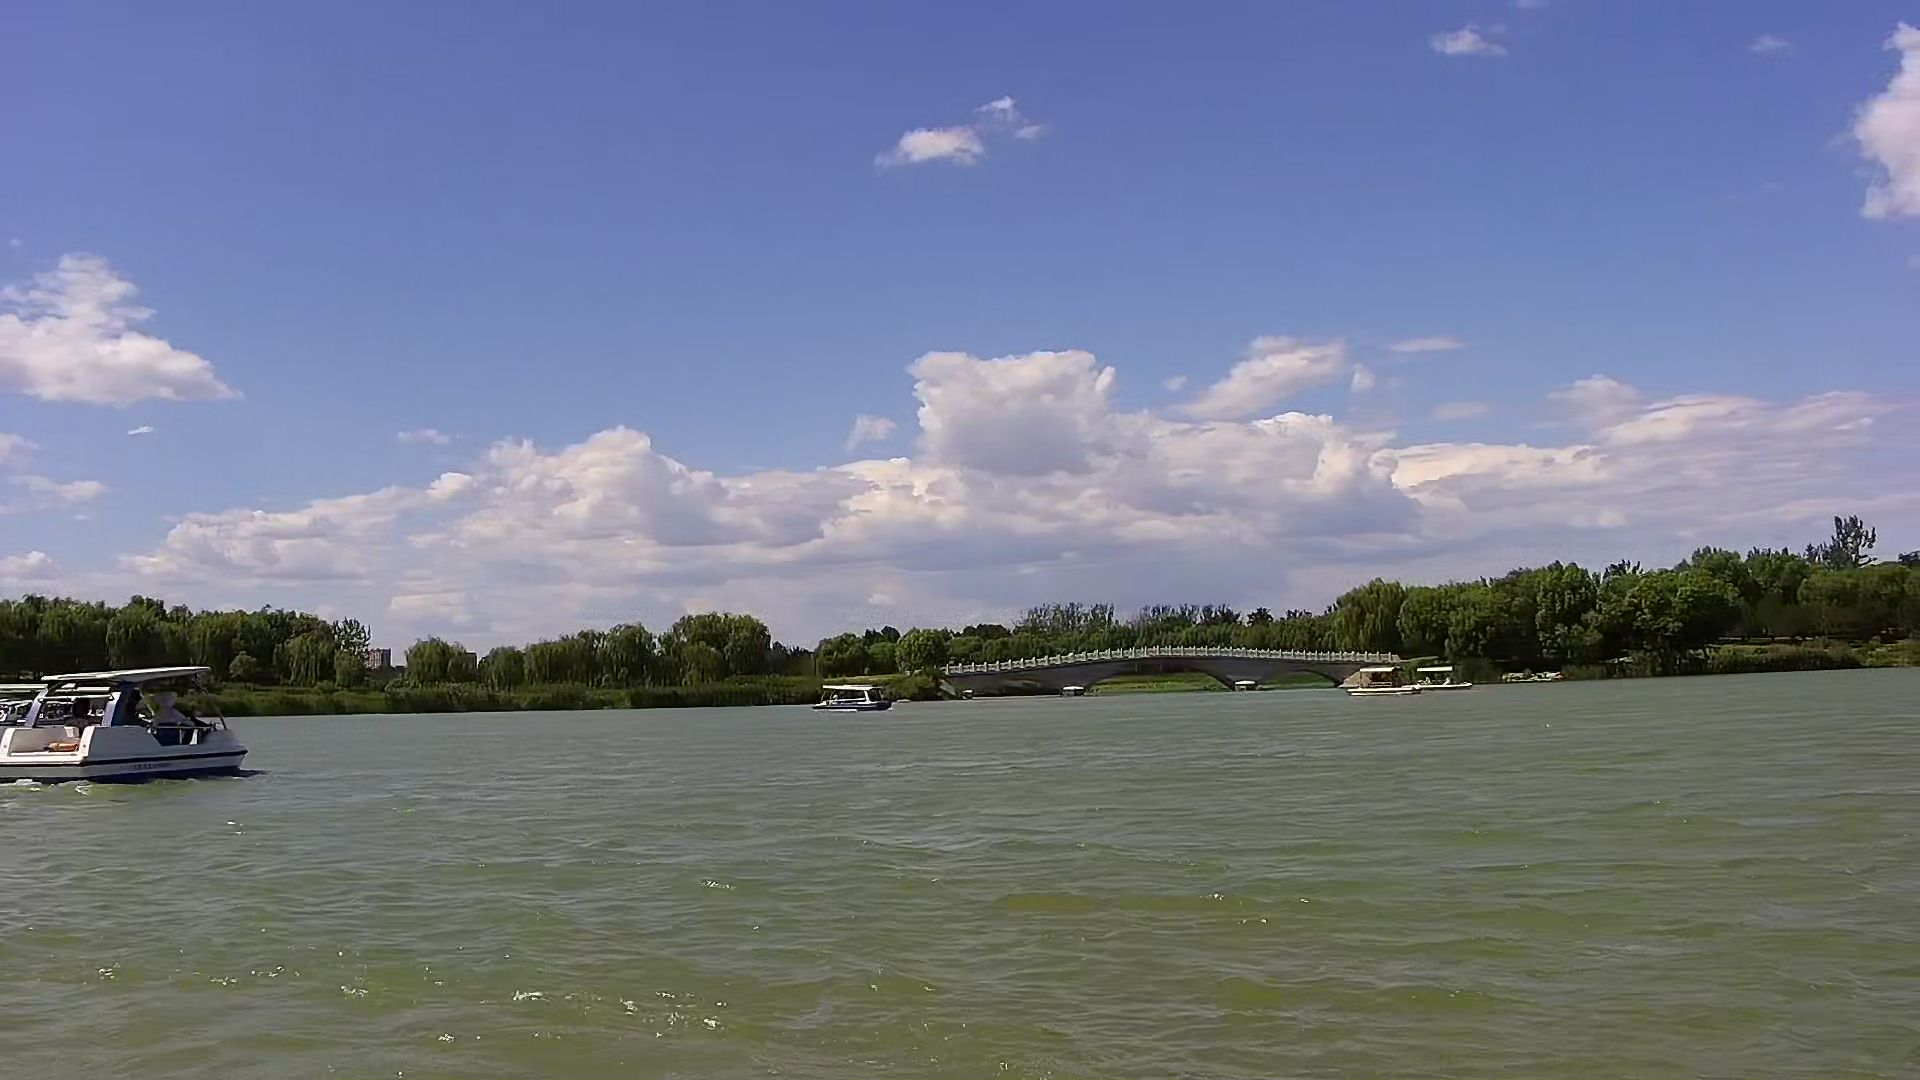boat: (7, 665, 258, 796), (812, 671, 893, 716), (1353, 650, 1414, 708), (1414, 654, 1466, 698)
bridge: (934, 636, 1356, 704)
